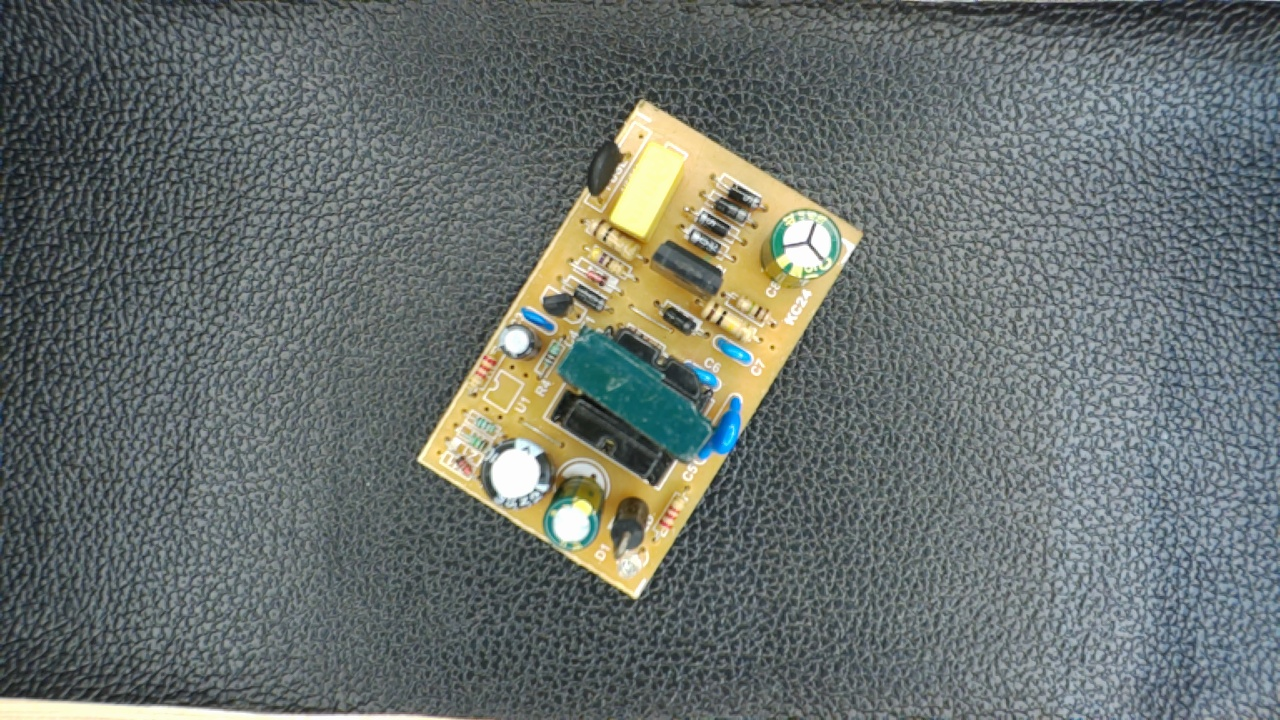fuse: (581, 137, 639, 212)
hv_capacitor: (758, 204, 843, 291)
mov: (698, 389, 749, 470)
